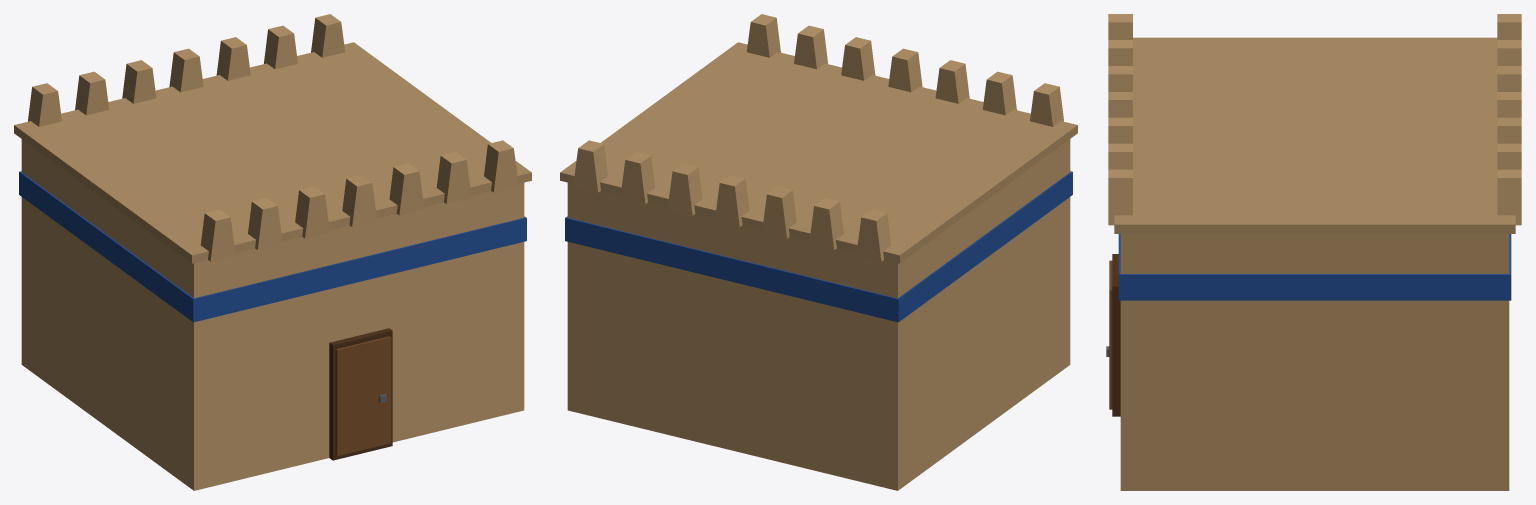
Rendered from minotaur_house_a.glb.
3 views of the same model, side by side, from view 1: azimuth 30°, elevation 25°; view 2: azimuth 150°, elevation 25°; view 3: azimuth 270°, elevation 25° (orthographic). The views are drawn at different scales.
Visible parts, largest first — view 1: minotaur_house_a; view 2: minotaur_house_a; view 3: minotaur_house_a.
Part boxes in pixels (x1,y1,x2,y2): minotaur_house_a: [14, 14, 531, 490]; minotaur_house_a: [560, 14, 1077, 490]; minotaur_house_a: [1106, 14, 1521, 490].
Size of the model in its own units: 2.16 by 1.64 by 2.03.
